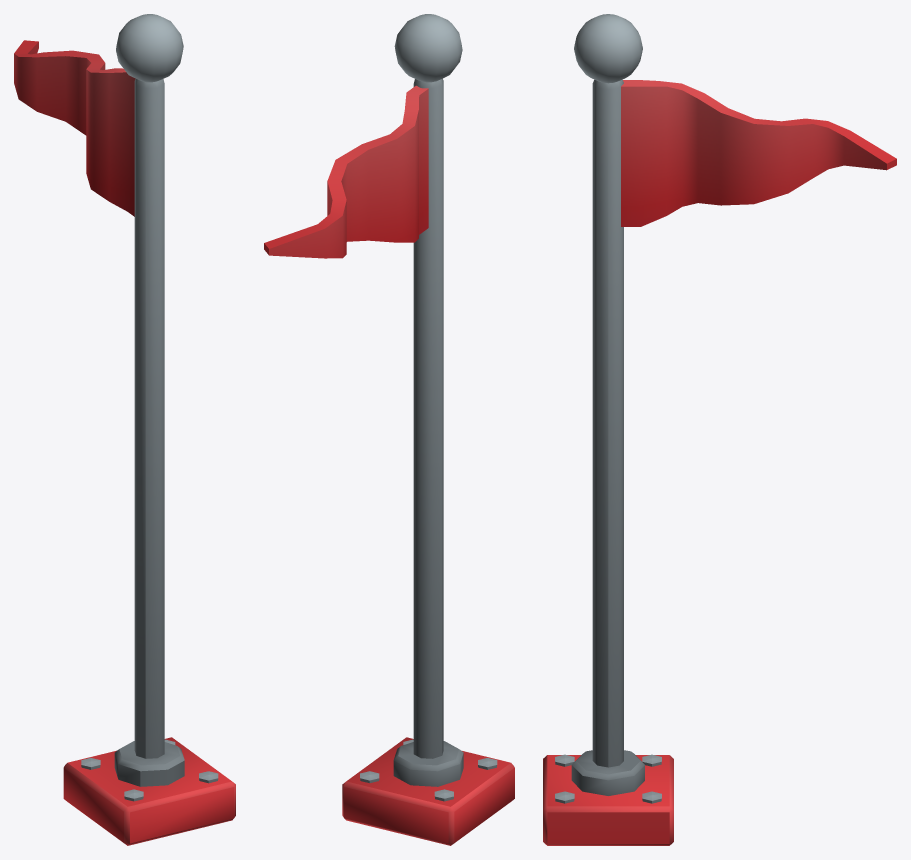
File: flag_C_red.glb
The picture shows the model from 3 angles, left to right: view 1: azimuth 30°, elevation 25°; view 2: azimuth 150°, elevation 25°; view 3: azimuth 270°, elevation 25°; orthographic projection.
Visible parts, largest first — view 1: flag_C_red; view 2: flag_C_red; view 3: flag_C_red.
Part boxes in pixels (box(x1,y1,x2,y2)): flag_C_red: box(14, 14, 235, 845); flag_C_red: box(264, 14, 514, 845); flag_C_red: box(543, 14, 896, 845).
Size of the model in its own units: 0.6 by 4.06 by 1.62.
1 material, 1 textured.
